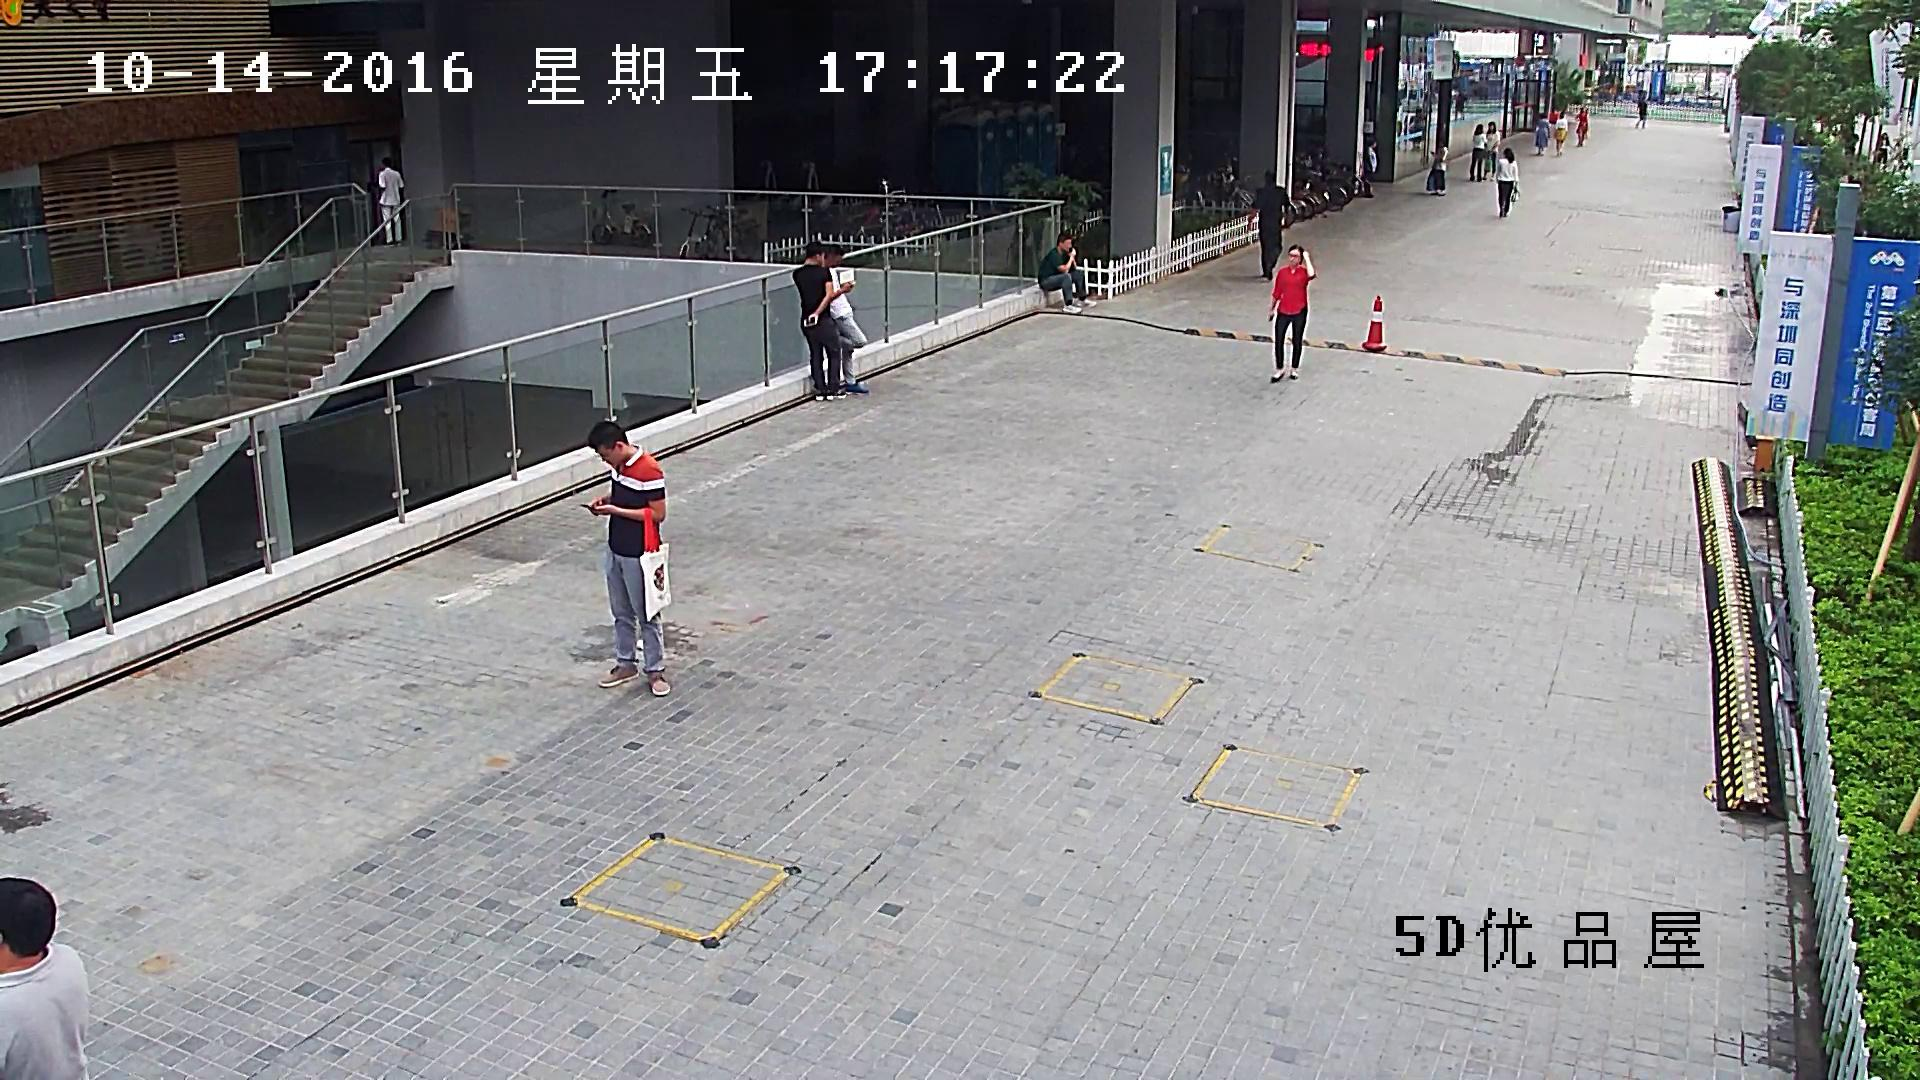person: (577, 421, 672, 696), (0, 877, 87, 1080), (792, 240, 846, 401), (820, 245, 868, 393), (1266, 244, 1315, 381), (1037, 231, 1095, 314), (1247, 170, 1290, 279), (377, 157, 404, 246), (1496, 146, 1519, 217), (1426, 138, 1448, 194), (1481, 121, 1499, 180), (1430, 137, 1448, 194), (1469, 124, 1486, 180), (1363, 137, 1377, 195), (1534, 113, 1548, 155), (1554, 112, 1567, 156), (1575, 107, 1589, 146), (1877, 132, 1890, 168), (1455, 91, 1466, 119), (1635, 97, 1646, 128)
